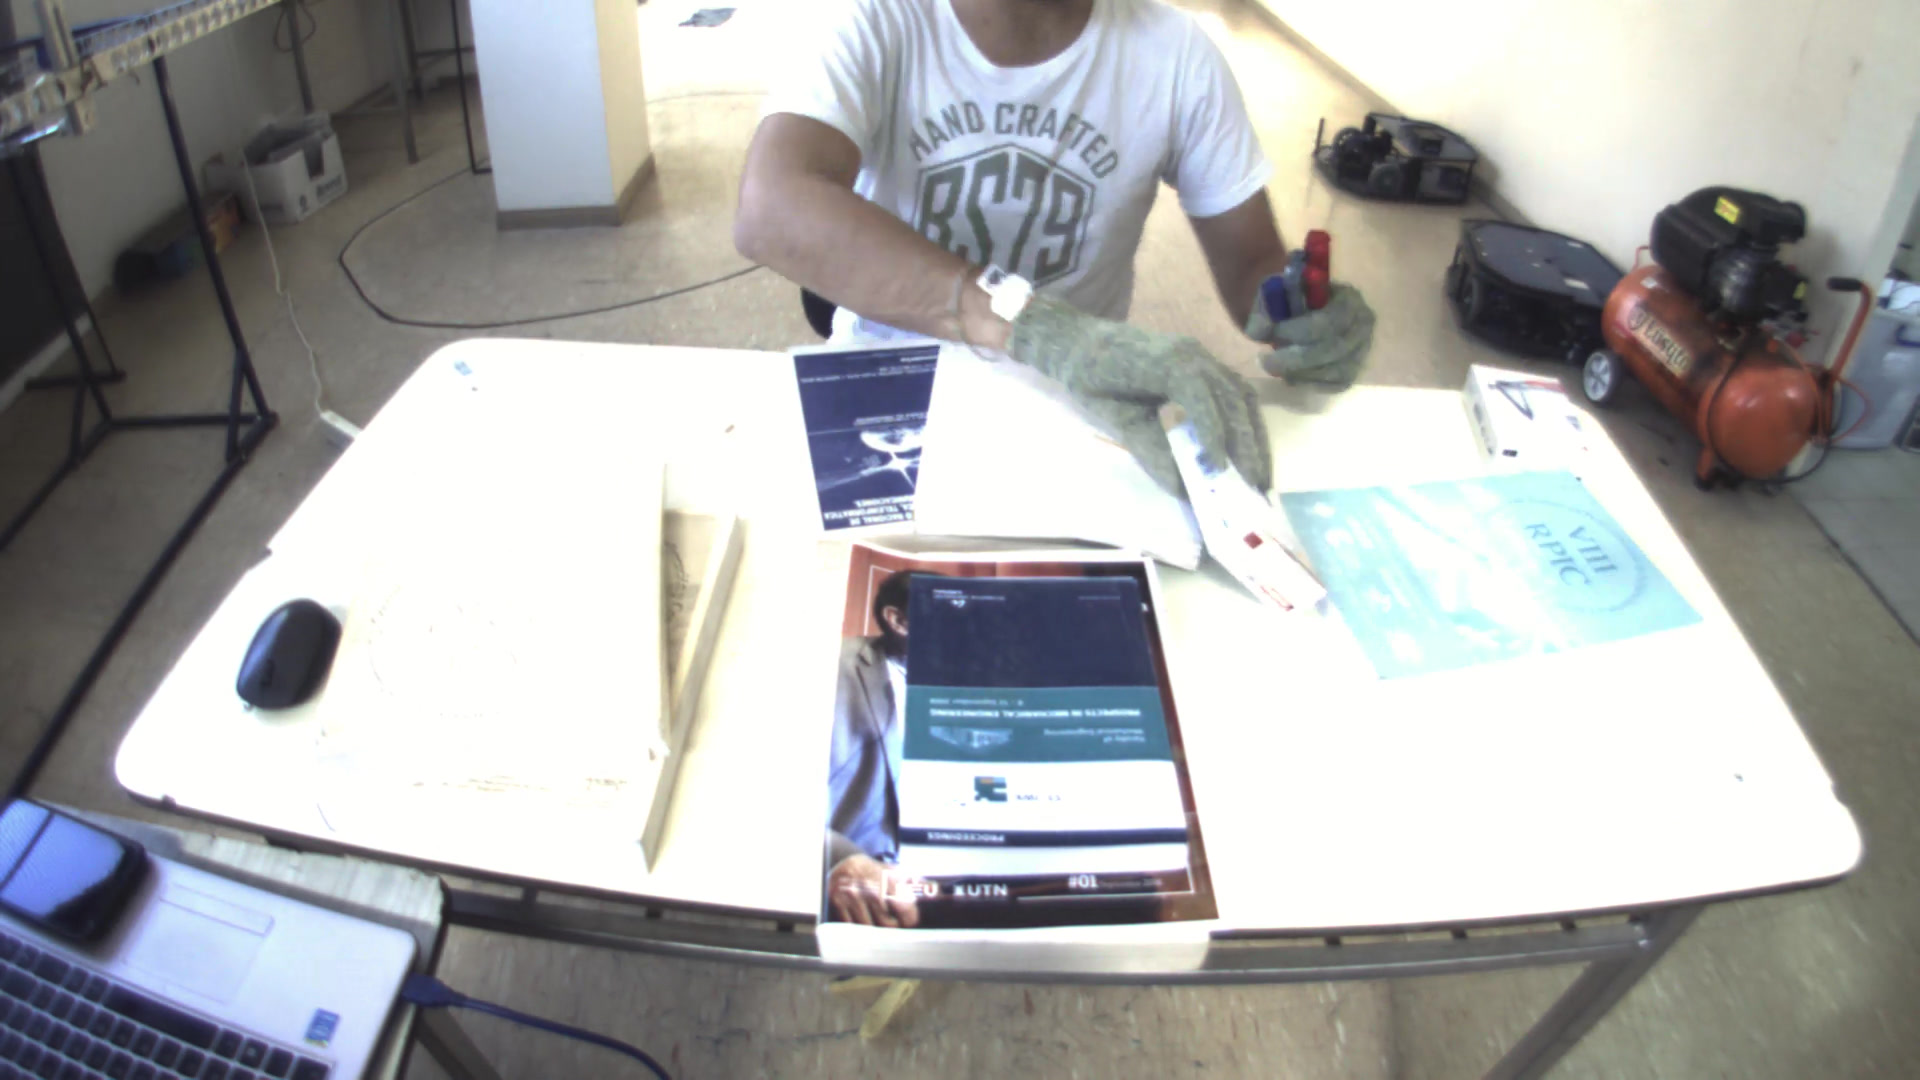hand: (1002, 280, 1279, 508), (1257, 266, 1393, 398)
